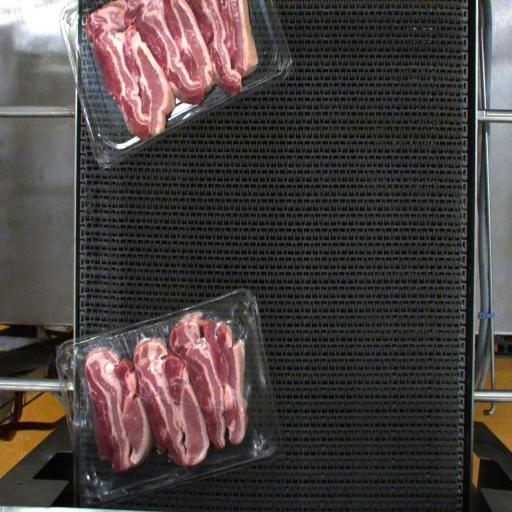unsealed: (80, 319, 293, 505)
